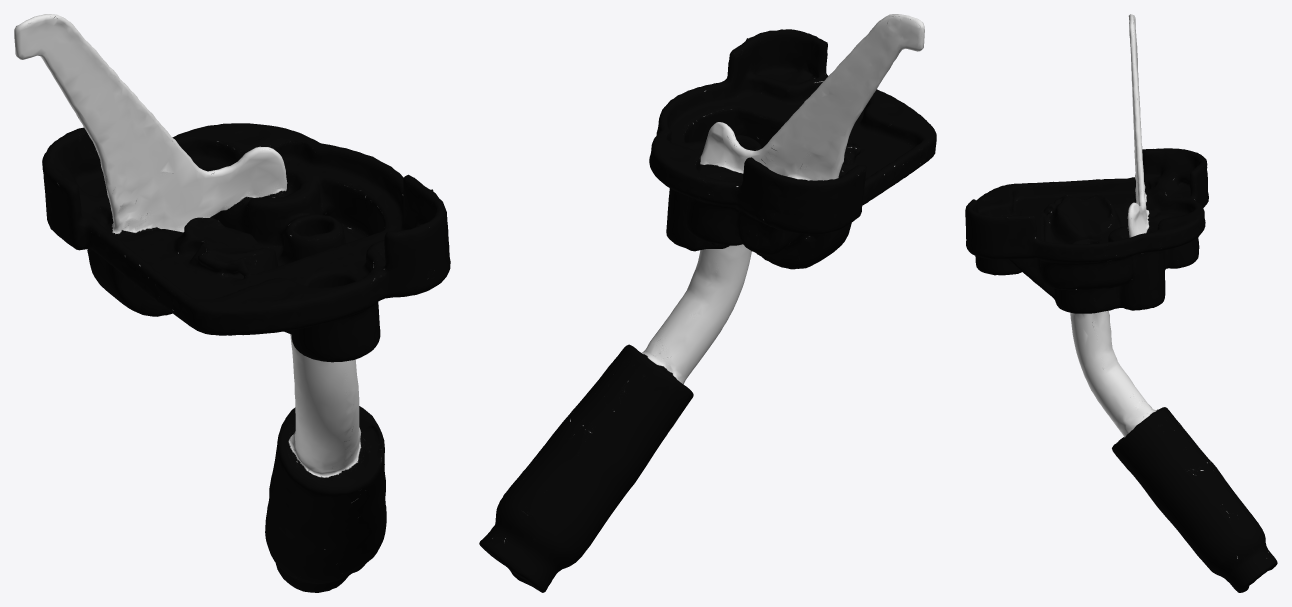
The model's file is black2.obj.
3 renders of one model, left to right at view 1: azimuth 30°, elevation 25°; view 2: azimuth 150°, elevation 25°; view 3: azimuth 270°, elevation 25°, orthographic. The views are drawn at different scales.
Parts seen in each view (by area): view 1: black2; view 2: black2; view 3: black2.
Part boxes in pixels (<box>): black2: <box>14,14,450,592</box>; black2: <box>479,14,936,592</box>; black2: <box>965,14,1277,592</box>.
Bounding box in the file's own units: 0.0499 × 0.0774 × 0.0477.
